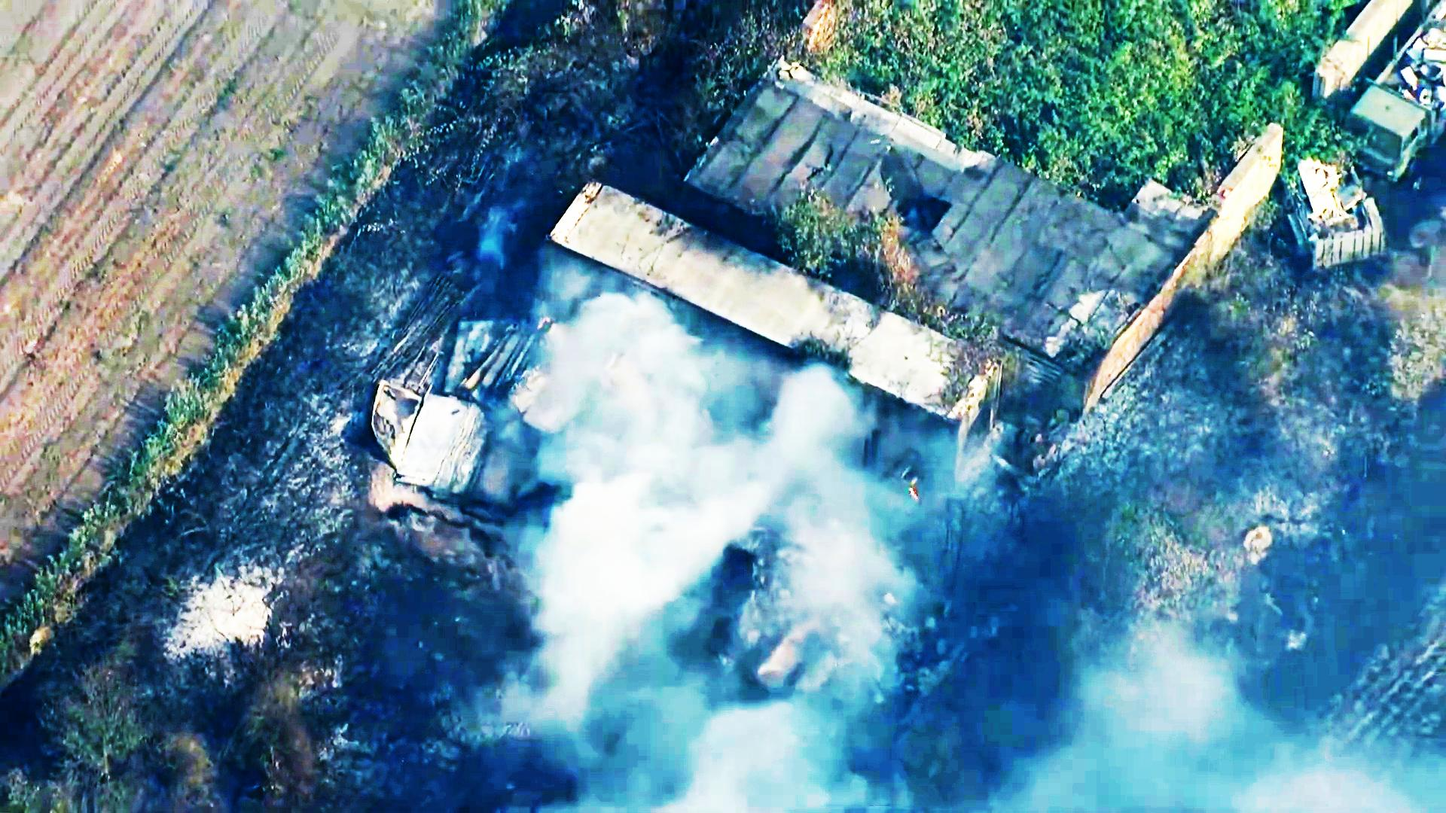smoke: (513, 428, 727, 604), (526, 315, 674, 449)
